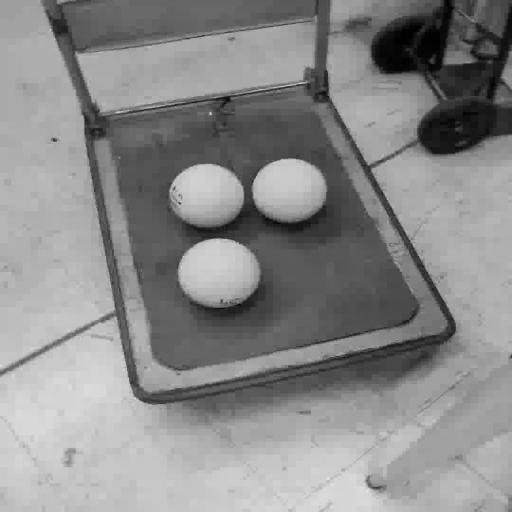fuel: (178, 239, 260, 308), (169, 164, 244, 229), (253, 159, 327, 223)
